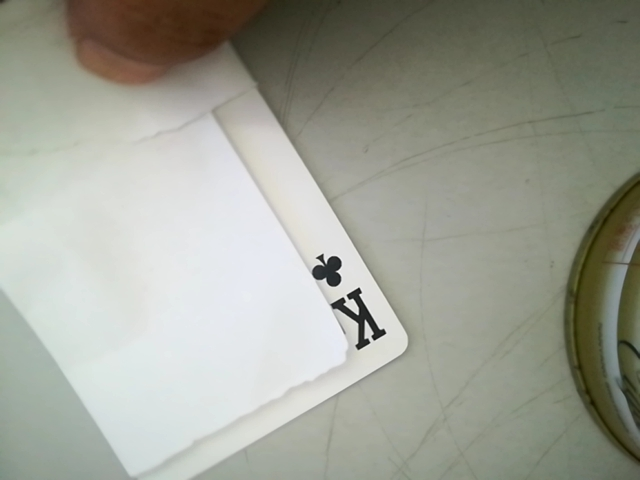mh k: (306, 243, 390, 358)
